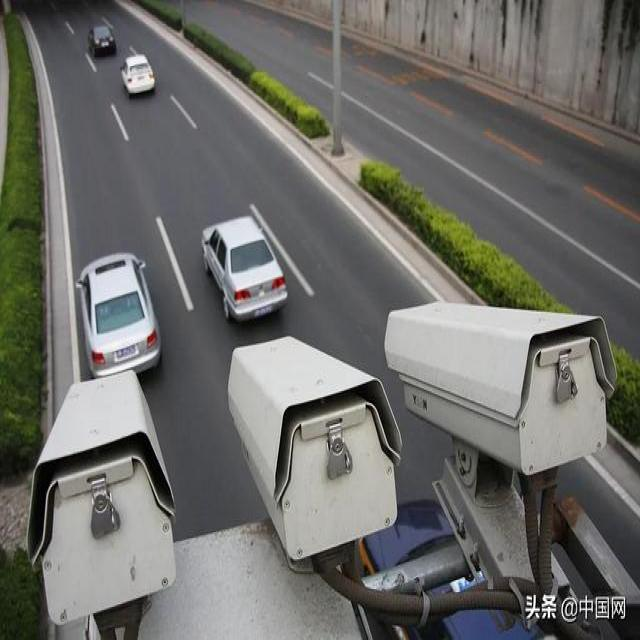point: (22, 0, 222, 185)
